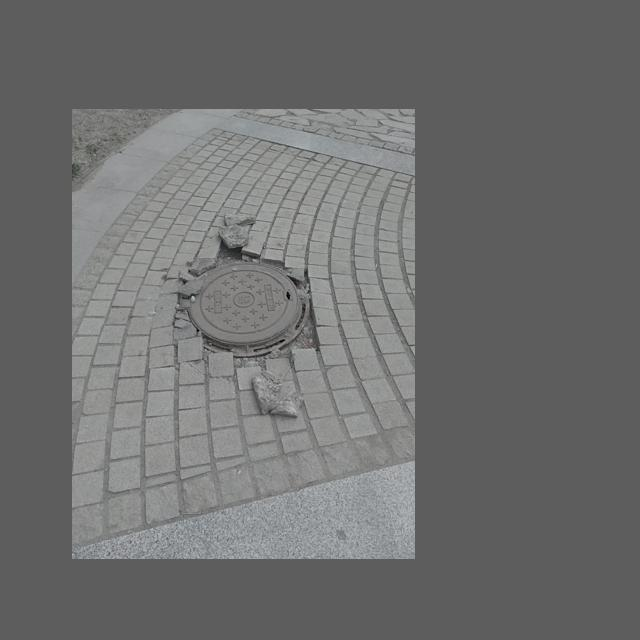circle: (155, 234, 333, 379)
